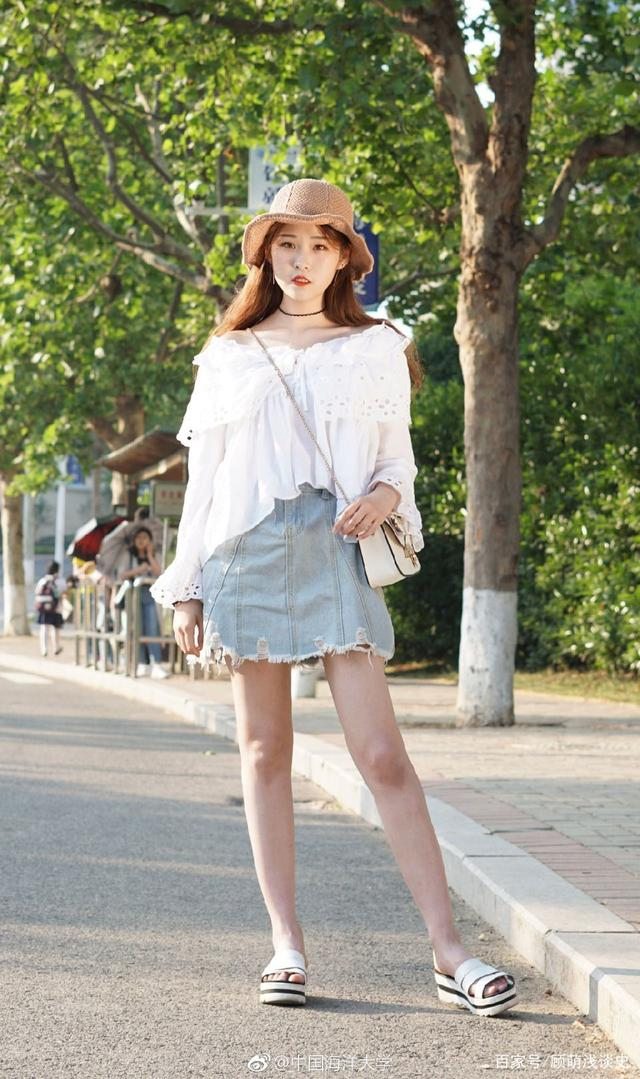person: (173, 190, 507, 844)
